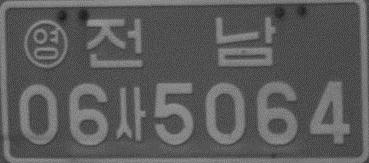0: (203, 82, 246, 145), (17, 83, 59, 146)
4: (308, 79, 349, 144)
5: (151, 81, 194, 146)
6: (254, 80, 298, 146), (67, 82, 109, 145)
사: (112, 87, 147, 142)
영: (23, 18, 69, 69)
전남_D: (85, 17, 278, 69)
